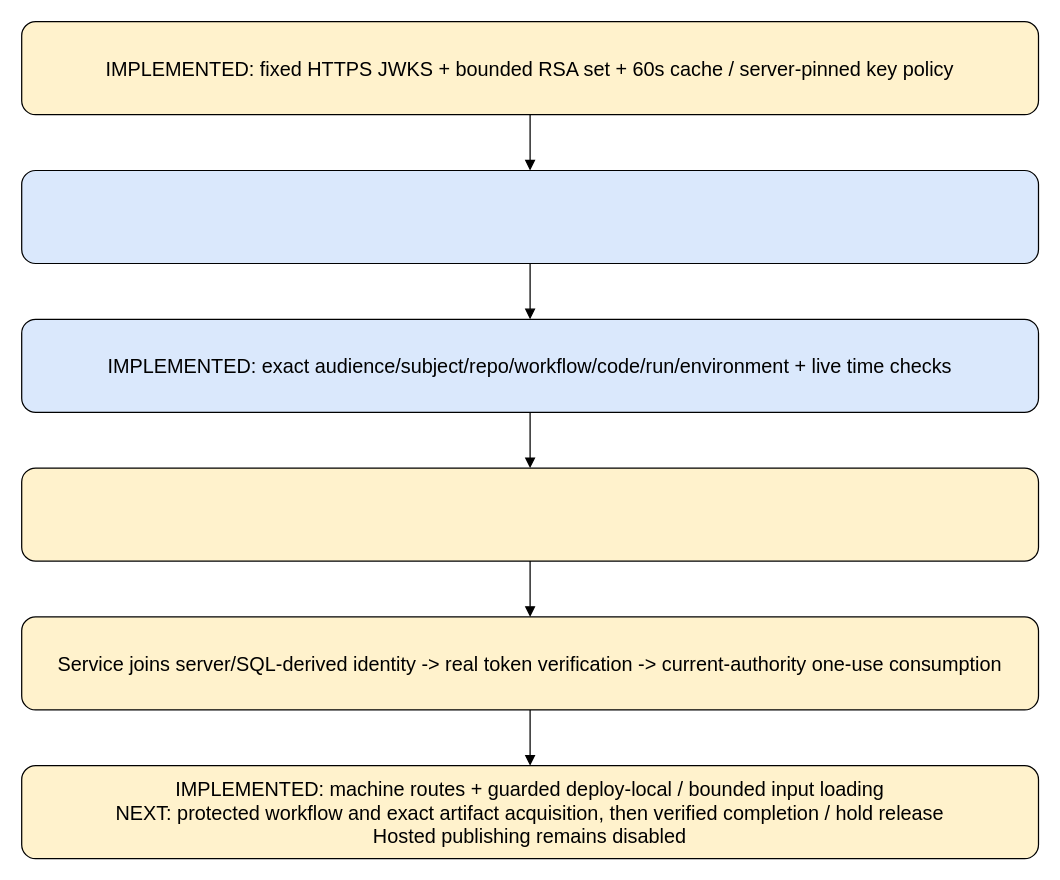
The diagram is 1060 pixels wide and 880 high, and some of its shapes have lost their labels. Each missing label, with the box of its shape:
AUTHENTICATION ONLY: verified job identity is not a deployment grant: (20, 467, 1038, 561)
IMPLEMENTED: bounded canonical RS256 verification with trusted RSA key: (20, 169, 1038, 264)
